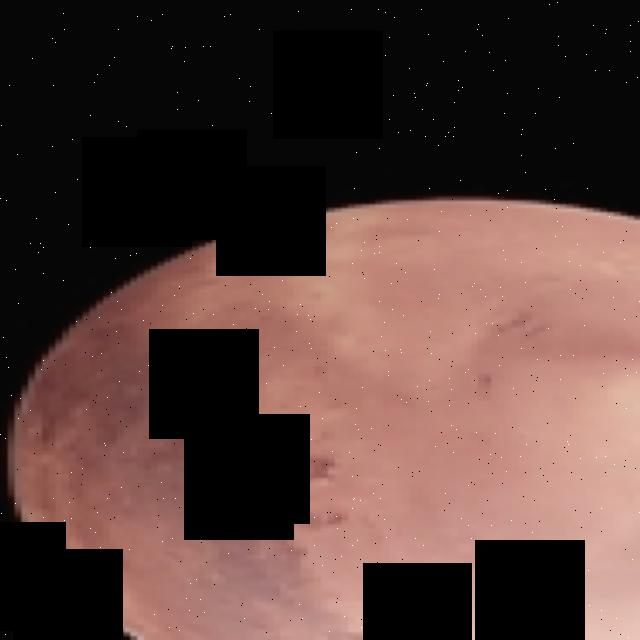Mars: (14, 201, 640, 640)
